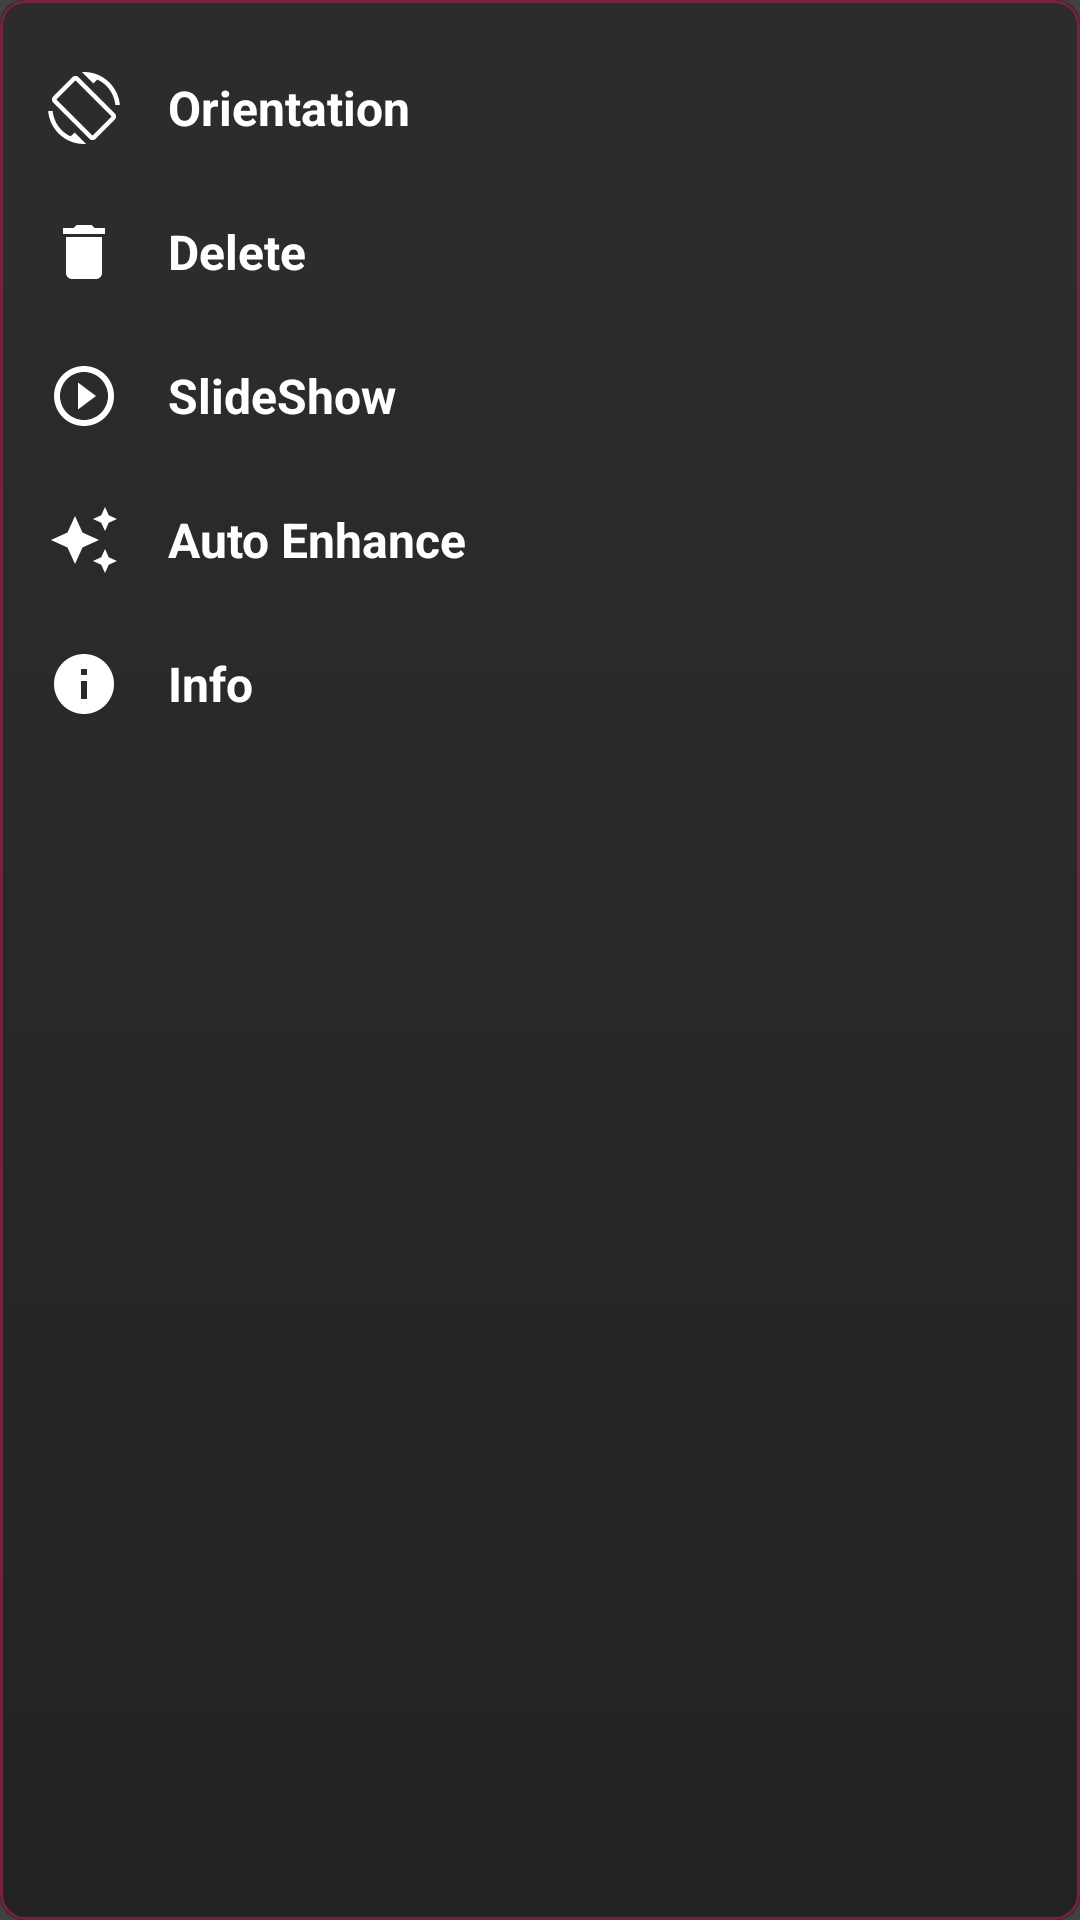

Point at icon controls on the screen. Image size 1080*1920, points as (x=x, y=y).
play circle: (x=84, y=396)
